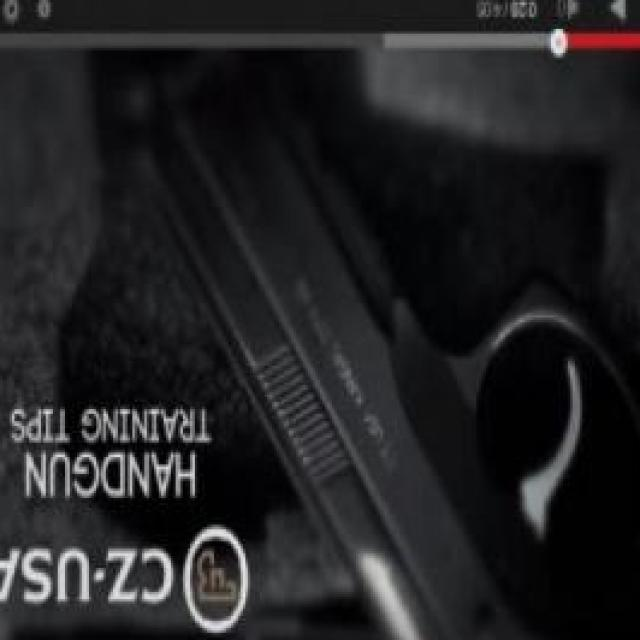pistol: (118, 60, 640, 640)
